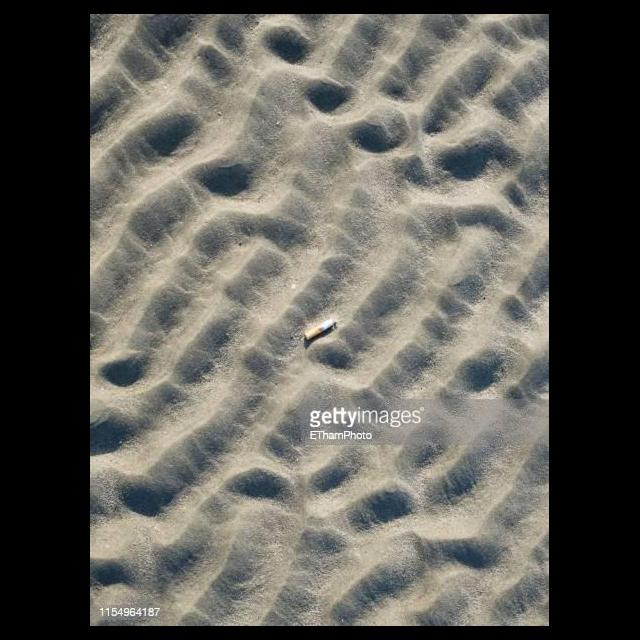Cigarette Butt: (303, 317, 337, 344)
